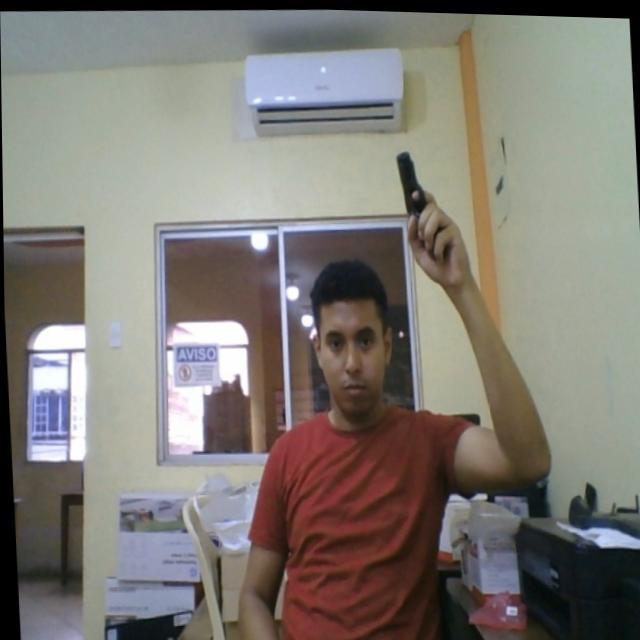weapon: (393, 144, 448, 258)
